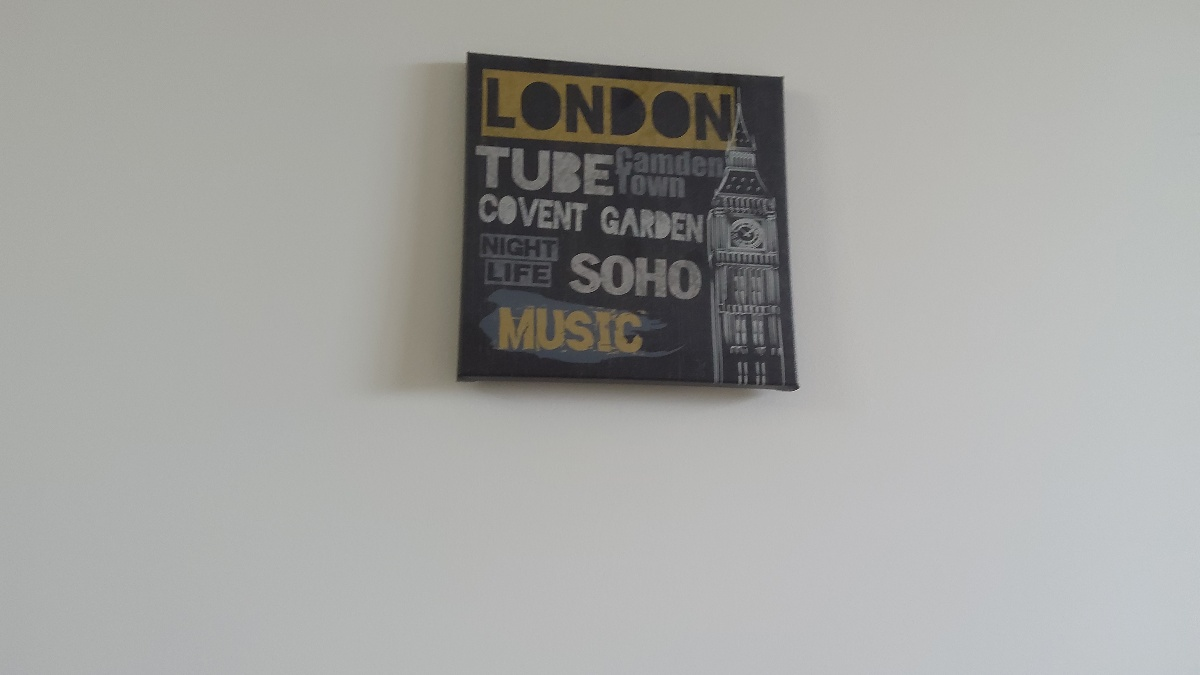poster: (451, 43, 811, 397)
